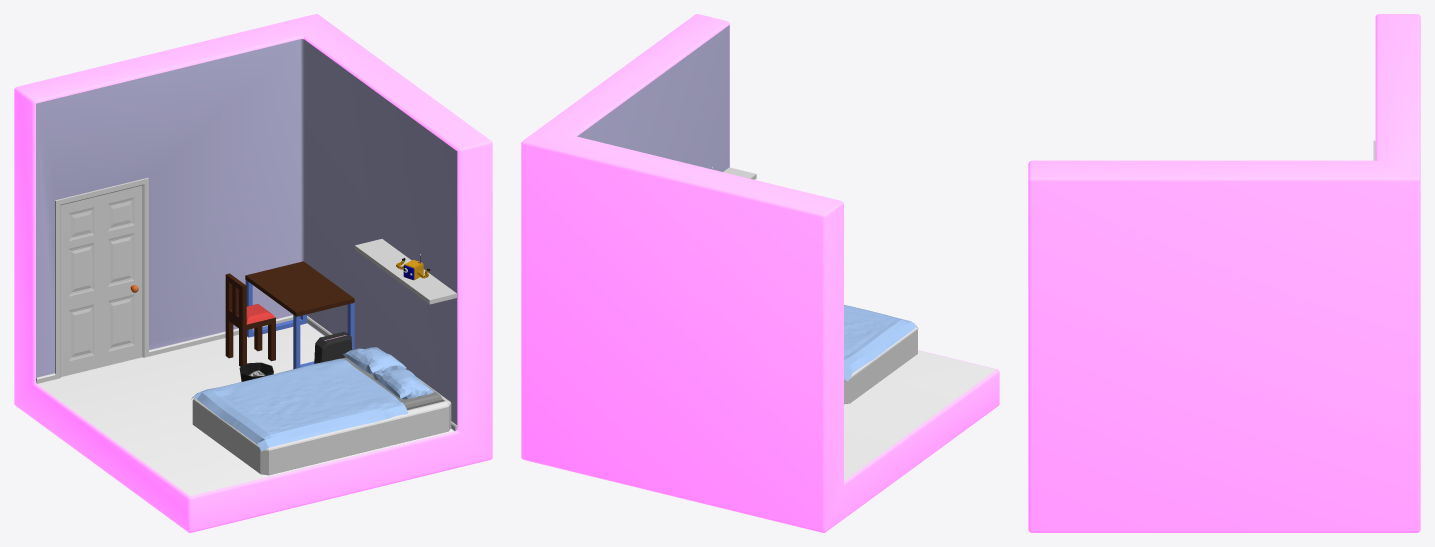
The model's file is CozyRoom_2.glb.
The picture shows the model from 3 angles, left to right: view 1: azimuth 30°, elevation 25°; view 2: azimuth 150°, elevation 25°; view 3: azimuth 270°, elevation 25°; orthographic projection. The views are drawn at different scales.
Visible parts, largest first — view 1: Cube, Cube.004, Plane.002, Cube.002, Cube.016, Cube.023, Cube.008, Cube.007, Plane.004, Cube.005, Plane.003, Cube.012 (+2 smaller); view 2: Cube, Plane.002, Cube.002; view 3: Cube.
Boxes of the visible parts, bbox=[...] form: Cube: bbox=[14, 14, 492, 532]; Cube.004: bbox=[61, 185, 142, 376]; Plane.002: bbox=[191, 358, 408, 451]; Cube.002: bbox=[192, 357, 451, 475]; Cube.016: bbox=[245, 261, 354, 369]; Cube.023: bbox=[225, 273, 275, 366]; Cube.008: bbox=[354, 239, 456, 304]; Cube.007: bbox=[142, 178, 148, 357]; Plane.004: bbox=[372, 369, 433, 399]; Cube.005: bbox=[55, 199, 60, 379]; Plane.003: bbox=[343, 347, 406, 374]; Cube.012: bbox=[314, 331, 352, 363]; Cube: bbox=[521, 14, 999, 532]; Plane.002: bbox=[844, 305, 918, 381]; Cube.002: bbox=[844, 327, 917, 404]; Cube: bbox=[1028, 14, 1420, 532].
Size of the model in its own units: 2.26 by 2.26 by 2.26.
